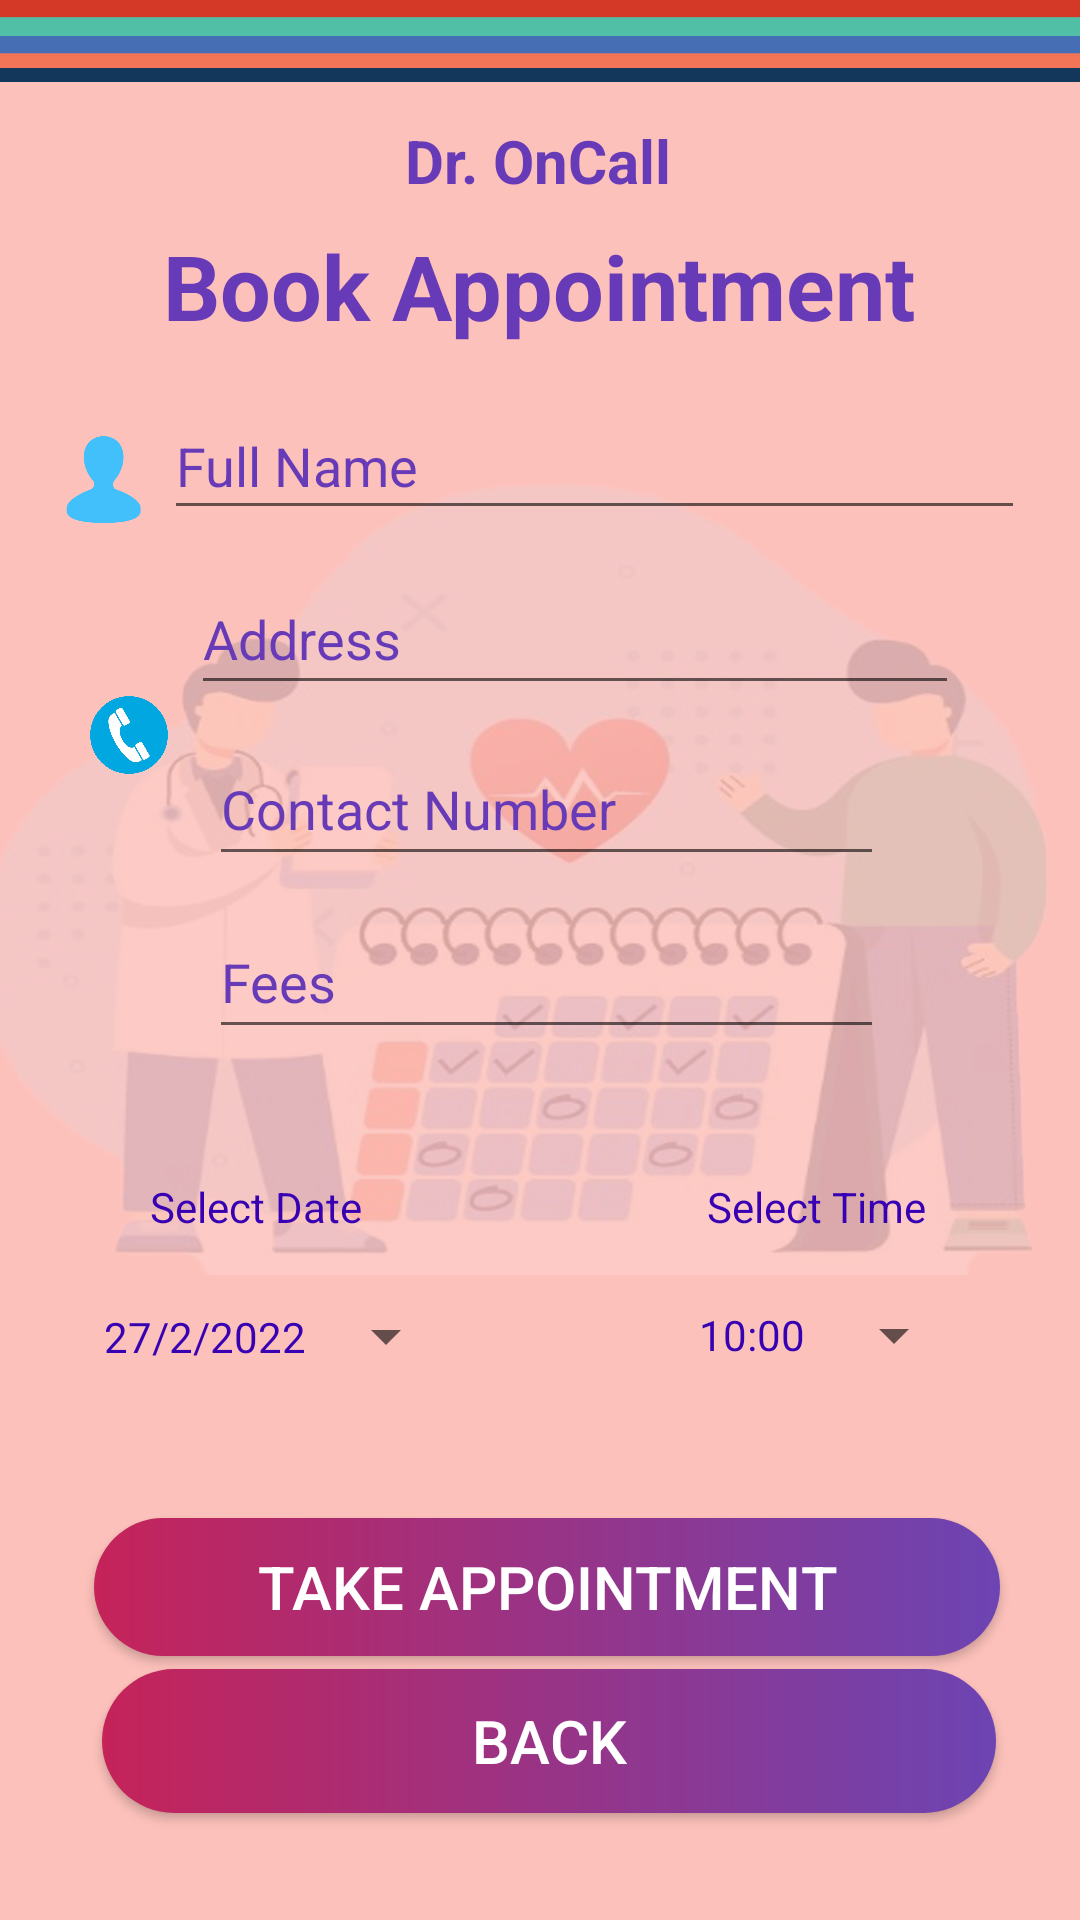

Screen size 1080*1920. Icon name, then its box in pixels as region(x1, y1, x2, y2):
phone: region(90, 696, 168, 774)
users: region(66, 436, 141, 523)
